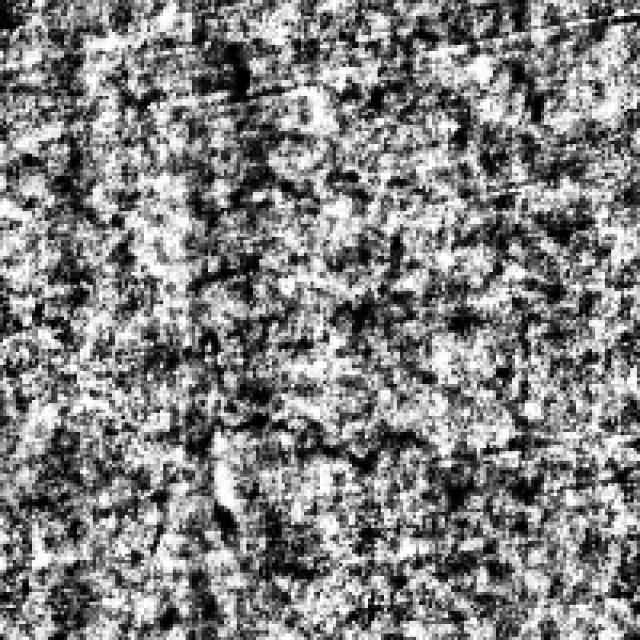Pitted_Surface: (182, 35, 413, 474)
